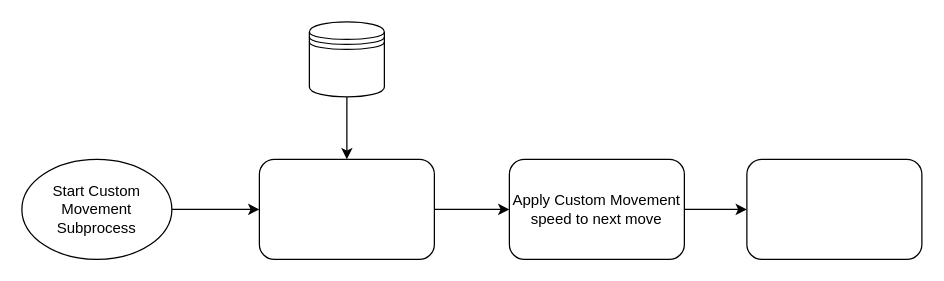
This 944x281 diagram has some shape labels left out. Here are the shapes that lost their labels. From the top down, the centre of each, then its label:
At (346,208): "Retreive Custom Movement speed: From moving character".
At (834,208): "Stop Custom Movement Subprocess".
